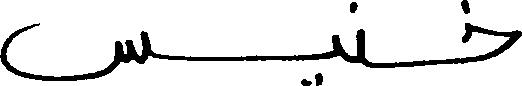X: (0, 18, 149, 85), (463, 0, 521, 68), (353, 0, 363, 69), (331, 30, 340, 62)
